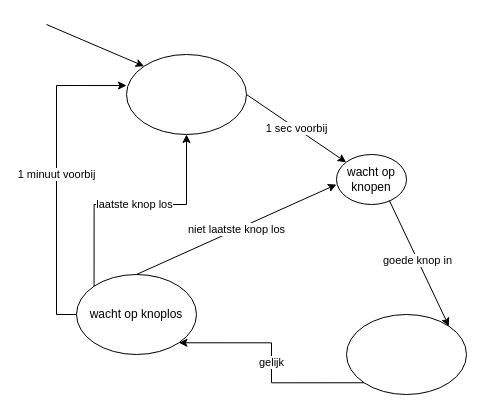
The diagram is 484 pixels wide and 412 high, and some of its shapes have lost their labels. The shapes that lost their labels are listed below. From the top down, each one's centre as x and y in pixels, then its label:
pixel 186 94: led 1 aan
pixel 406 354: tel punt
